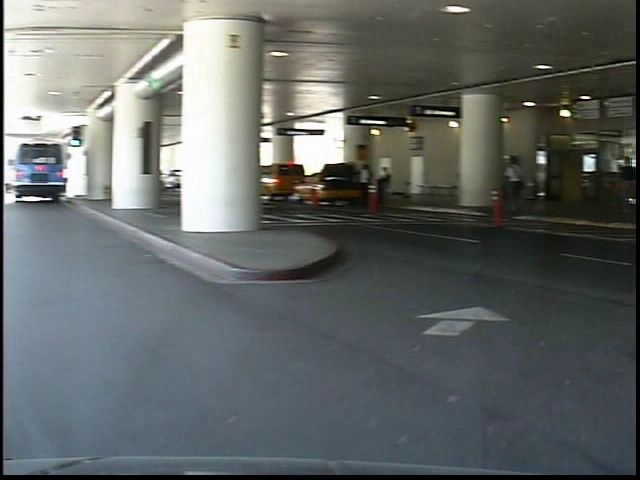person: (508, 154, 534, 212)
